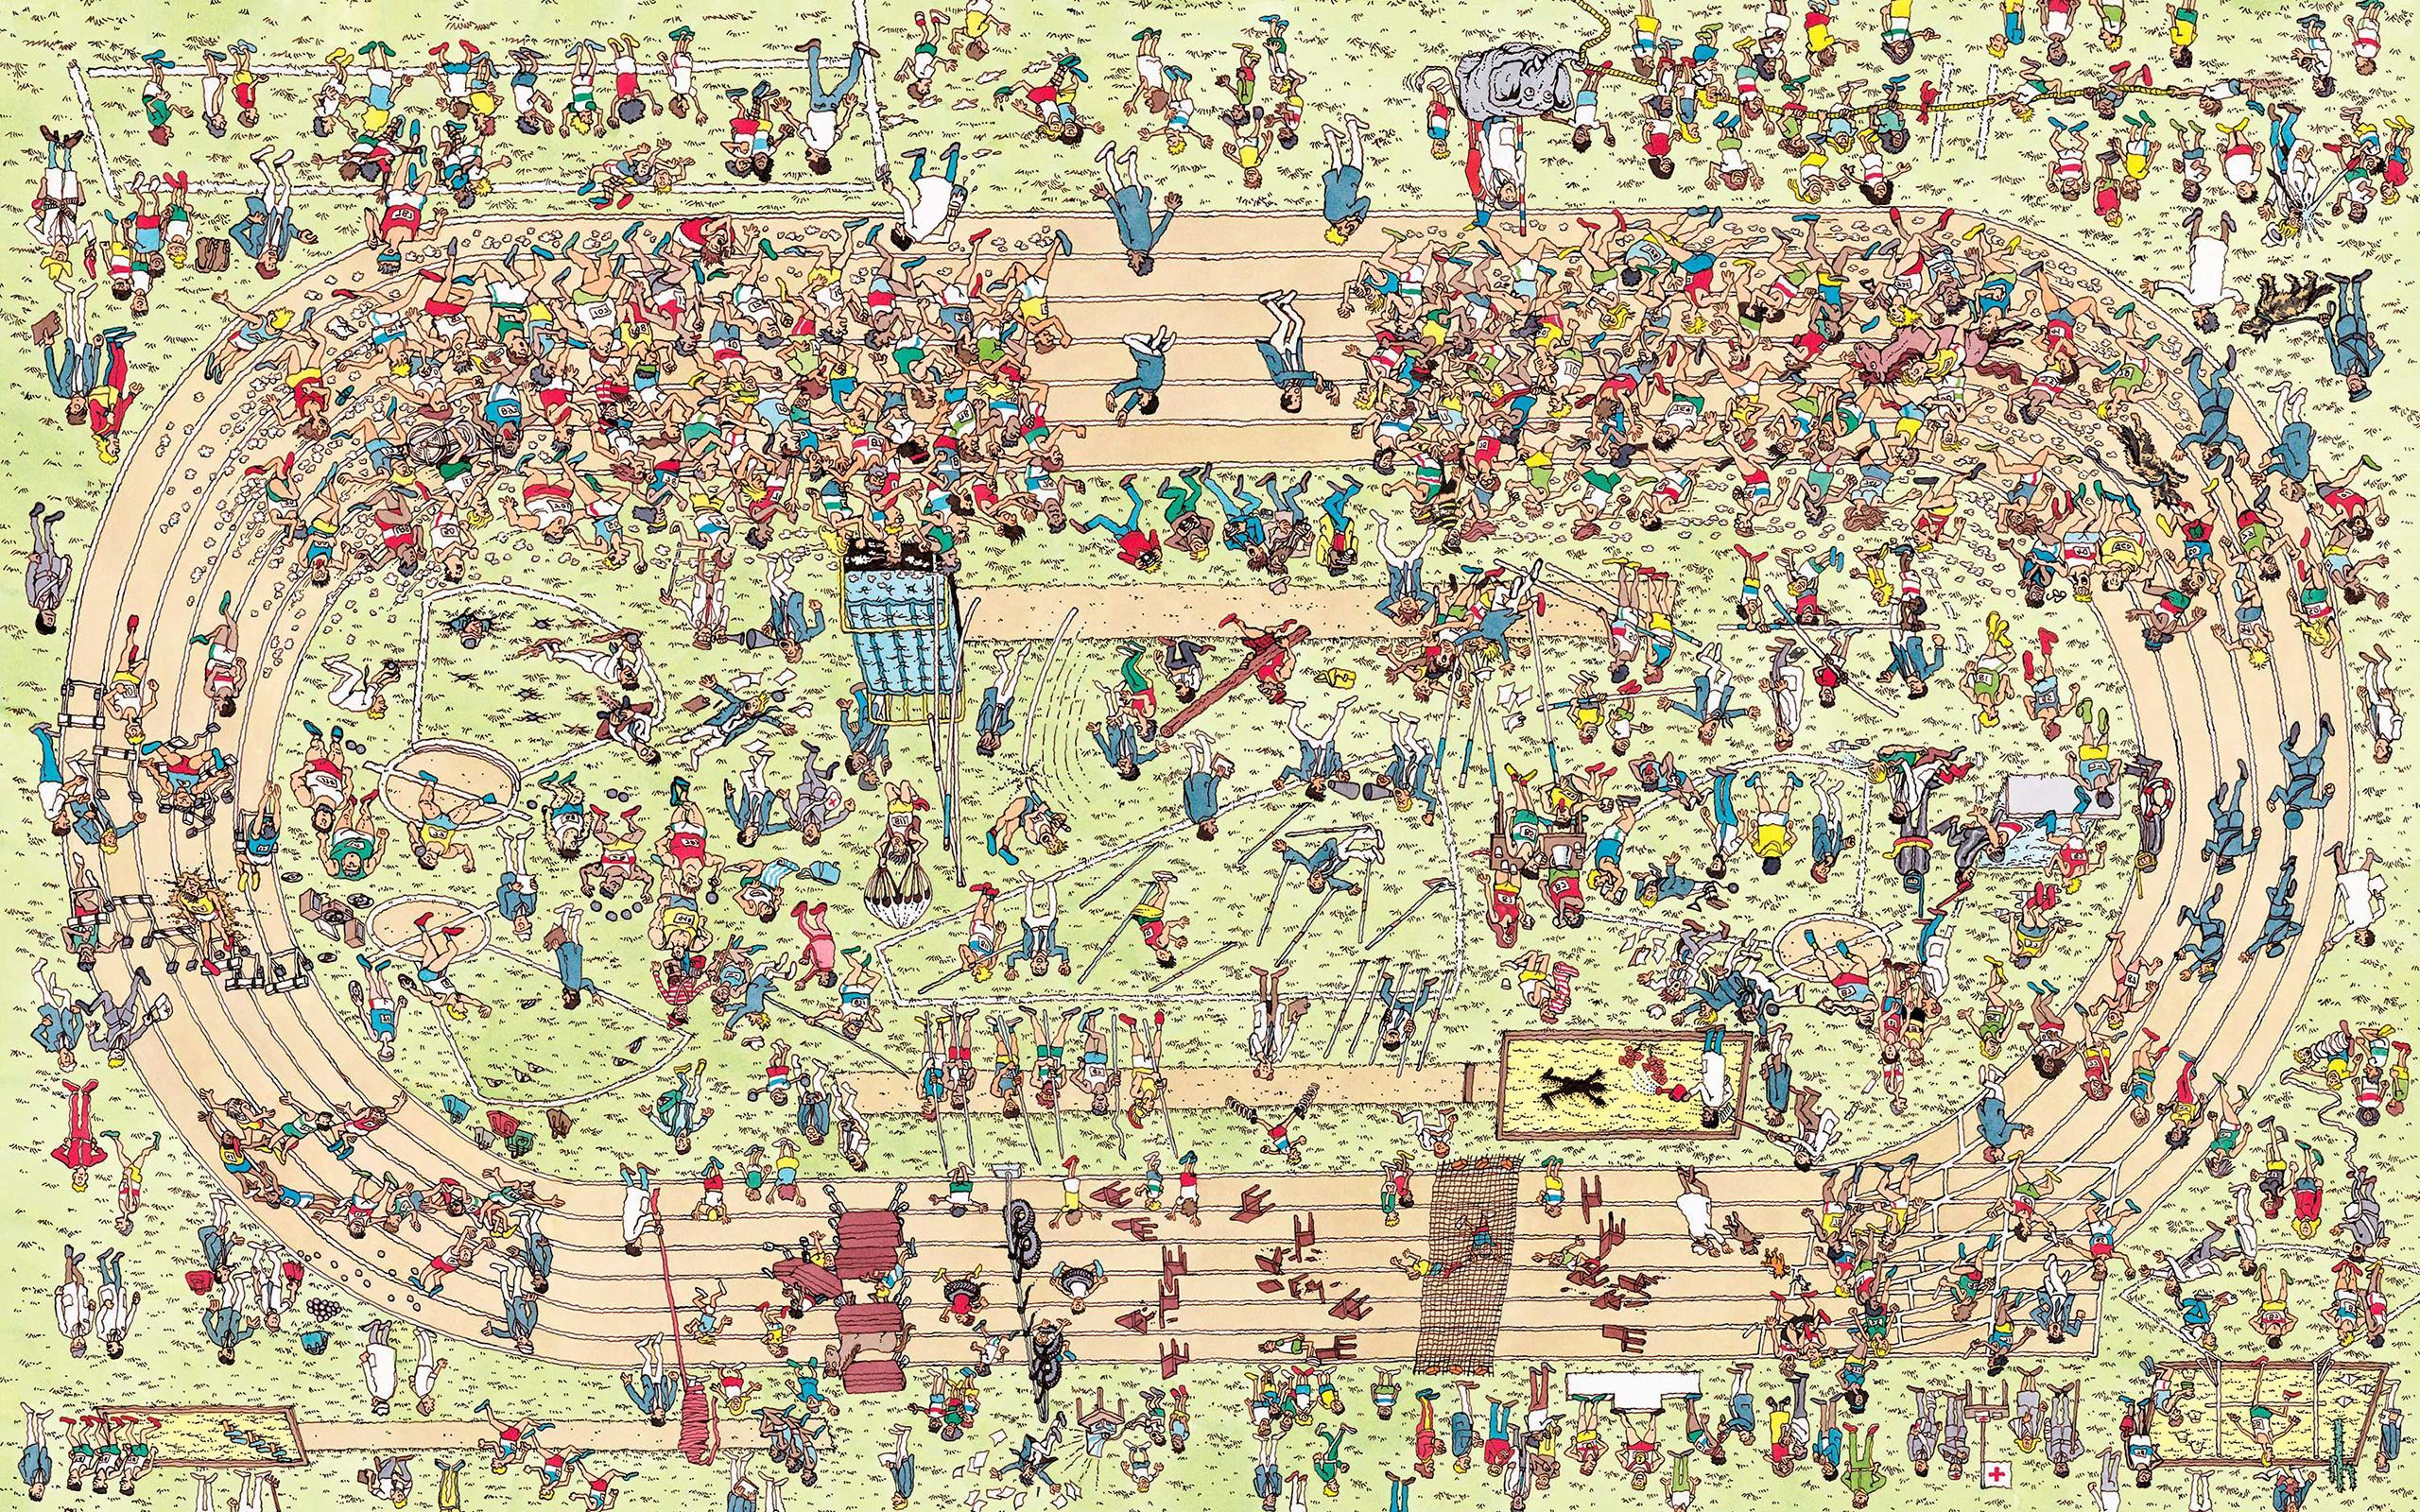waldos: (652, 951, 713, 1024)
